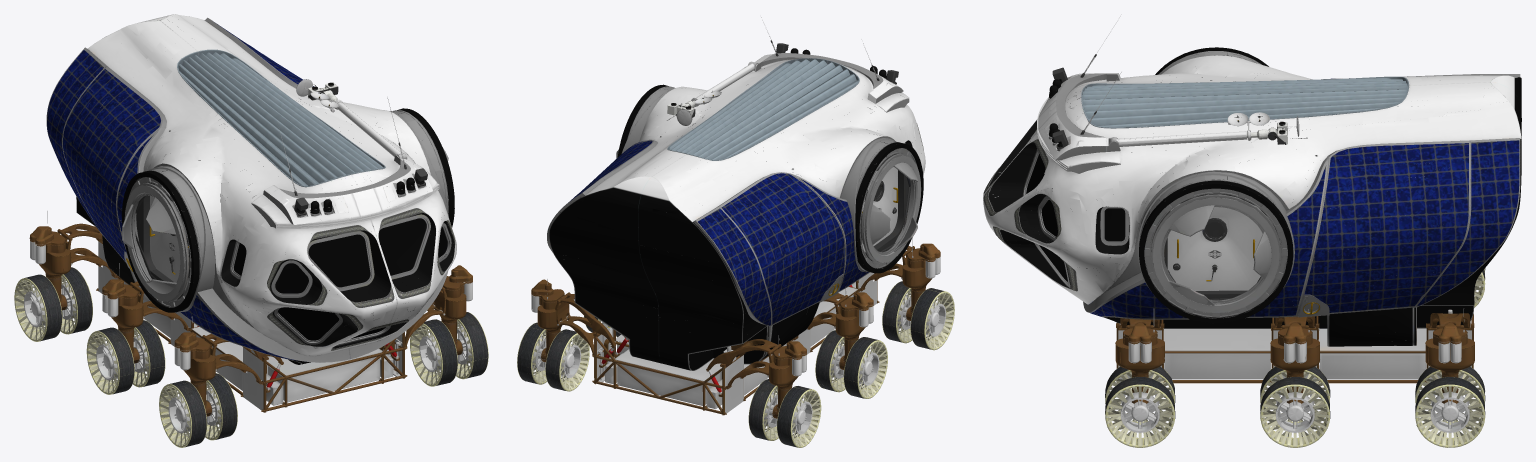
File: space_exploration_vehicle.glb
The picture shows the model from 3 angles, left to right: view 1: azimuth 30°, elevation 25°; view 2: azimuth 150°, elevation 25°; view 3: azimuth 270°, elevation 25°; orthographic projection. The views are drawn at different scales.
Visible parts, largest first — view 1: MMSEV; view 2: MMSEV; view 3: MMSEV.
Part boxes in pixels (x1,y1,x2,y2): MMSEV: (14,14,488,447); MMSEV: (517,17,954,447); MMSEV: (983,14,1521,447).
Bounding box in the file's own units: 3.14 × 3.09 × 4.6.
1 material, 1 textured.
